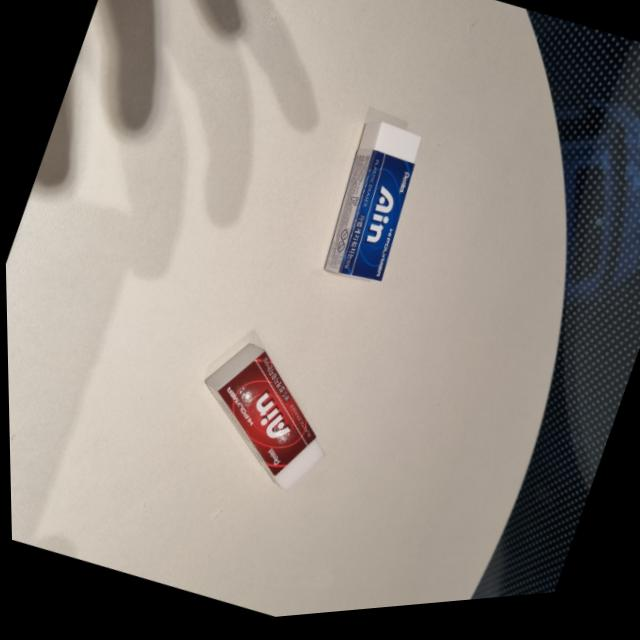blue: (307, 115, 440, 304)
red: (166, 326, 355, 520)
